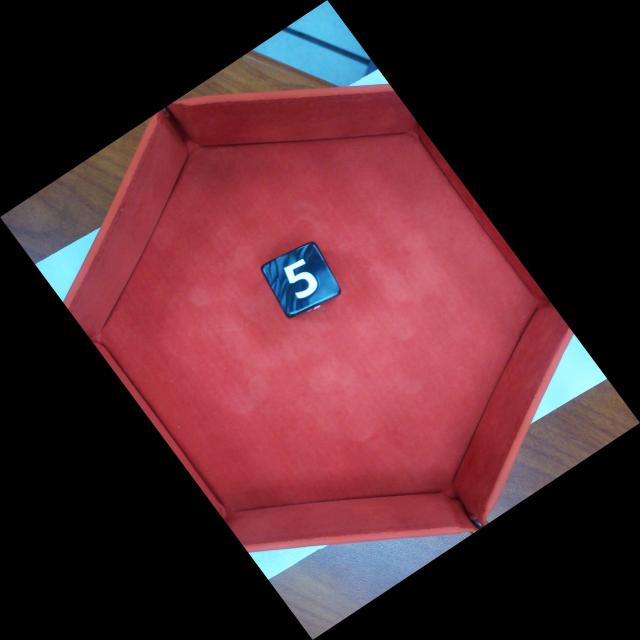dice: (260, 237, 343, 321)
